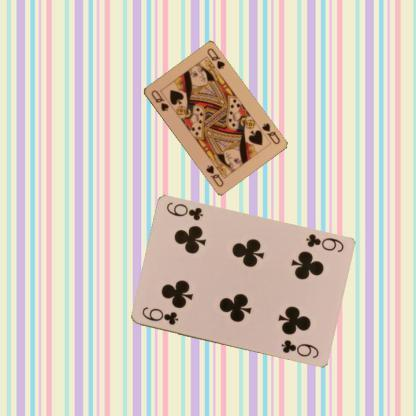6c: (303, 231, 345, 254), (138, 304, 180, 326)
Qs: (258, 120, 282, 146), (148, 87, 170, 113)
